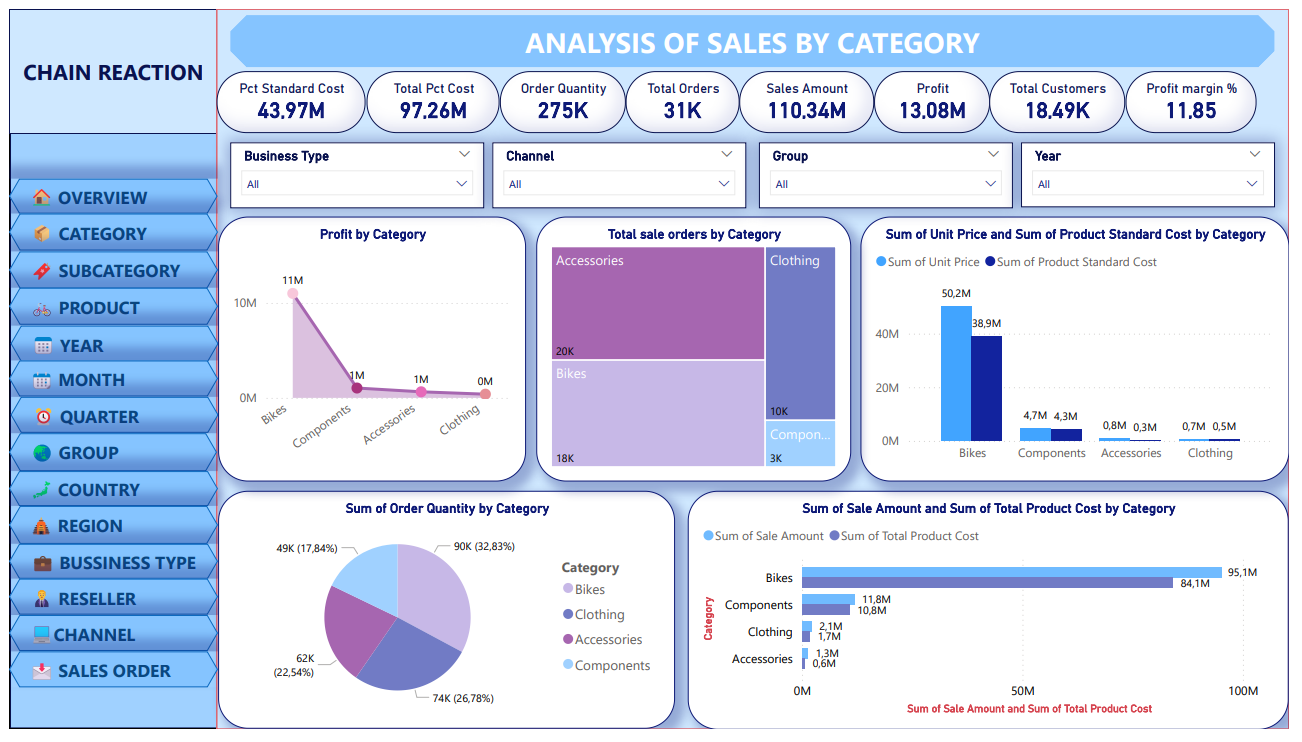

This screenshot's page, from the dashboard's own definition file:
{"tool":"powerbi","page":{"name":"Category","canvas":[1280,720],"ordinal":3},"visuals":[{"type":"shape","box":[0,0,209.9,720.4],"z":0},{"type":"shape","title":"dbdbdjb","box":[235.7,0,1044.3,52.1],"z":1000},{"type":"shape","box":[0.4,0,209.1,124.7],"z":2000},{"type":"shape","box":[207.6,0,1072.4,720.2],"z":3000},{"type":"shape","box":[0,170.1,208.6,35],"z":4000},{"type":"shape","box":[0,205,209,37],"z":5000},{"type":"shape","box":[0,242,209,37],"z":6000},{"type":"shape","box":[0,279,209,37],"z":7000},{"type":"shape","box":[1,316,208,36],"z":8000},{"type":"shape","box":[0,352,209,36],"z":9000},{"type":"shape","box":[1,388,208,36],"z":10000},{"type":"shape","box":[0,424,208,38],"z":11000},{"type":"shape","box":[0,462,209,35],"z":12000},{"type":"shape","box":[0,497,209,38],"z":13000},{"type":"shape","box":[0,535,209,35],"z":14000},{"type":"shape","box":[0,570,209,36],"z":15000},{"type":"shape","box":[0,606,209,36],"z":16000},{"type":"shape","box":[0,642,209,36],"z":17000},{"type":"card","title":"Order Quantity","fields":{"Values":["Sum(Sales.Order Quantity)"]},"box":[490.4,62.4,126,62.4],"z":18000},{"type":"card","title":"Pct Standard Cost","fields":{"Values":["Sum(Sales.Product Standard Cost)"]},"box":[207.9,62.4,149.2,62.4],"z":19000},{"type":"card","title":"Sales Amount","fields":{"Values":["Sum(Sales.Sale Amount)"]},"box":[730,62.4,134.5,62.4],"z":20000},{"type":"card","title":"Profit","fields":{"Values":["Sales.Profit"]},"box":[864.5,62.4,116.2,62.4],"z":21000},{"type":"card","title":"Total Pct Cost","fields":{"Values":["Sum(Sales.Total Product Cost)"]},"box":[357.1,62.4,133.3,62.4],"z":22000},{"type":"card","title":"Total Orders","fields":{"Values":["Sales.Total sale orders"]},"box":[616.3,62.4,113.7,62.4],"z":23000},{"type":"card","title":"Total Customers","fields":{"Values":["Count(Customer.Customer ID)"]},"box":[980.7,62.4,135.7,62.4],"z":24000},{"type":"card","title":"Profit margin %","fields":{"Values":["Sales.Profit margin"]},"box":[1116.4,62.4,130.8,62.4],"z":25000},{"type":"pieChart","fields":{"Category":["Category.Category"],"Y":["Sum(Sales.Order Quantity)"]},"box":[208.8,481.9,456.9,238.1],"z":26000},{"type":"clusteredBarChart","fields":{"Category":["Category.Category"],"Y":["Sum(Sales.Sale Amount)","Sum(Sales.Total Product Cost)"]},"box":[679,481.2,600.6,238.8],"z":27000},{"type":"clusteredColumnChart","fields":{"Category":["Category.Category"],"Y":["Sum(Sales.Unit Price)","Sum(Sales.Product Standard Cost)"]},"box":[851.3,208,428.7,265.3],"z":28000},{"type":"areaChart","fields":{"Category":["Category.Category"],"Y":["Sales.Profit"]},"box":[209.3,208,308,265.3],"z":29000},{"type":"treemap","fields":{"Group":["Category.Category"],"Values":["Sales.Total sale orders"]},"box":[527.3,208,314.7,265.3],"z":30000},{"type":"shape","title":"dbdbdjb","box":[221.1,5.6,1044.4,52.2],"z":31000},{"type":"slicer","fields":{"Values":["Business Type.Business Type"]},"box":[221.3,133.3,254,66],"z":32000},{"type":"slicer","fields":{"Values":["Channel.Channel"]},"box":[483.6,133.6,254.3,65.7],"z":33000},{"type":"slicer","fields":{"Values":["Group.Group"]},"box":[749.3,133.6,254.3,65.7],"z":34000},{"type":"slicer","fields":{"Values":["Date.Year"]},"box":[1011.8,133.6,253.6,65.5],"z":35000}]}

Visuals, with their boxes in screenshot pixels (x1, y1, x2, y2), scaled from the page's 1280x720 canvas onto the 1302x742 screenshot:
shape: 0:0:214:741
"dbdbdjb" shape: 240:0:1301:54
shape: 0:0:213:129
shape: 211:0:1301:741
shape: 0:175:212:211
shape: 0:211:213:249
shape: 0:249:213:288
shape: 0:288:213:326
shape: 1:326:213:363
shape: 0:363:213:400
shape: 1:400:213:437
shape: 0:437:212:476
shape: 0:476:213:512
shape: 0:512:213:551
shape: 0:551:213:587
shape: 0:587:213:625
shape: 0:625:213:662
shape: 0:662:213:699
"Order Quantity" card: 499:64:627:129
"Pct Standard Cost" card: 211:64:363:129
"Sales Amount" card: 743:64:879:129
"Profit" card: 879:64:998:129
"Total Pct Cost" card: 363:64:499:129
"Total Orders" card: 627:64:743:129
"Total Customers" card: 998:64:1136:129
"Profit margin %" card: 1136:64:1269:129
pieChart - Category.Category x Sum(Sales.Order Quantity): 212:497:677:741
clusteredBarChart - Category.Category x Sum(Sales.Sale Amount): 691:496:1301:741
clusteredColumnChart - Category.Category x Sum(Sales.Unit Price): 866:214:1301:488
areaChart - Category.Category x Sales.Profit: 213:214:526:488
treemap - Category.Category x Sales.Total sale orders: 536:214:856:488
"dbdbdjb" shape: 225:6:1287:60
slicer - Business Type.Business Type: 225:137:483:205
slicer - Channel.Channel: 492:138:751:205
slicer - Group.Group: 762:138:1021:205
slicer - Date.Year: 1029:138:1287:205
